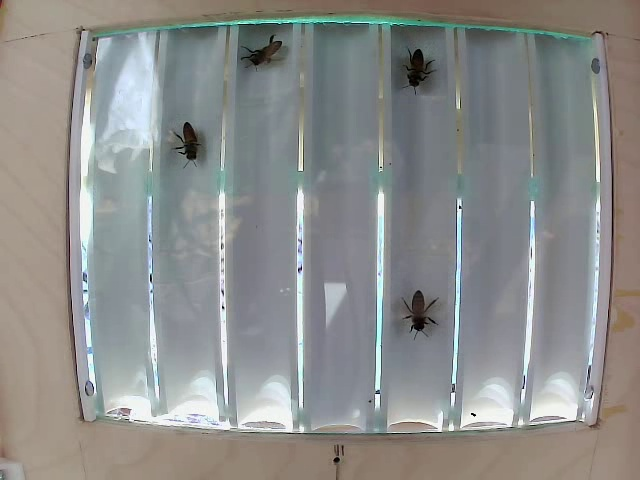bee: (239, 26, 309, 79), (394, 277, 441, 349), (167, 109, 206, 171), (389, 47, 439, 78)
